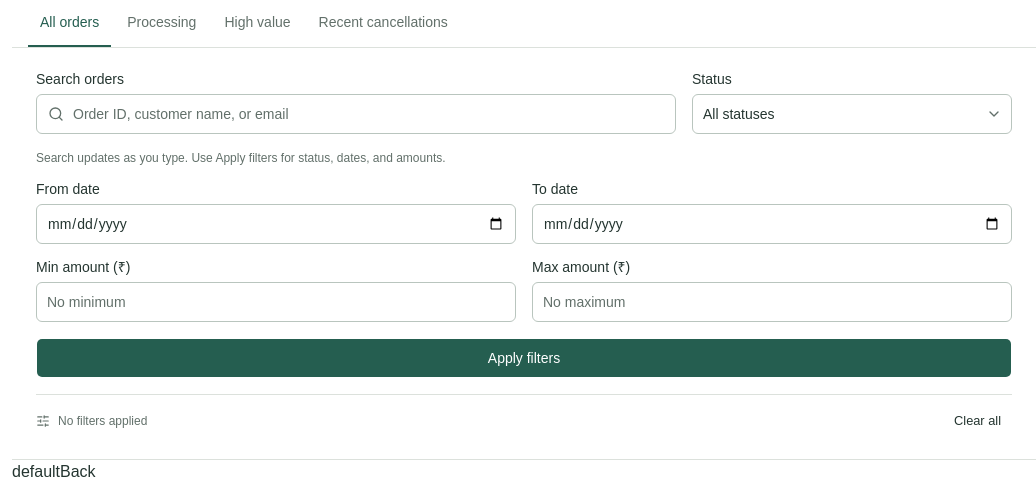
clear all cancels a pending search
Step 1. Type "pending" into the search field labelled "Search orders" → (356, 114), box [36,94,676,134]
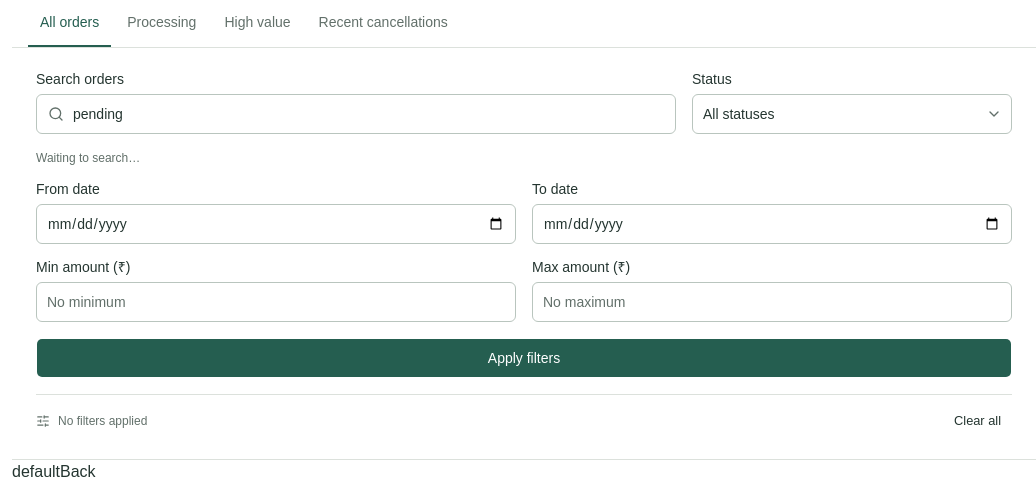
Step 2. Click the button "Clear all" → (978, 421), box [943,407,1012,435]
Wait 350 ms
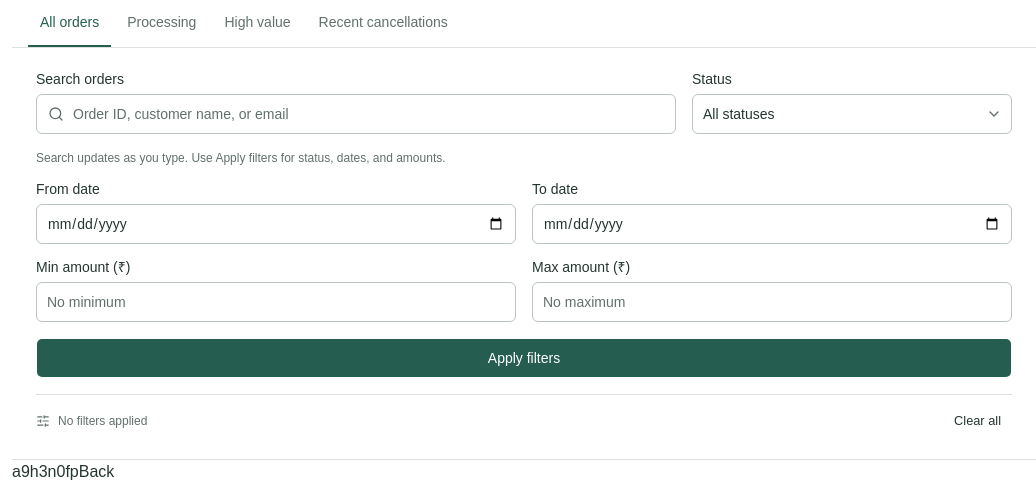
Now the search field labelled "Search orders" is empty, box [36,94,676,134]
